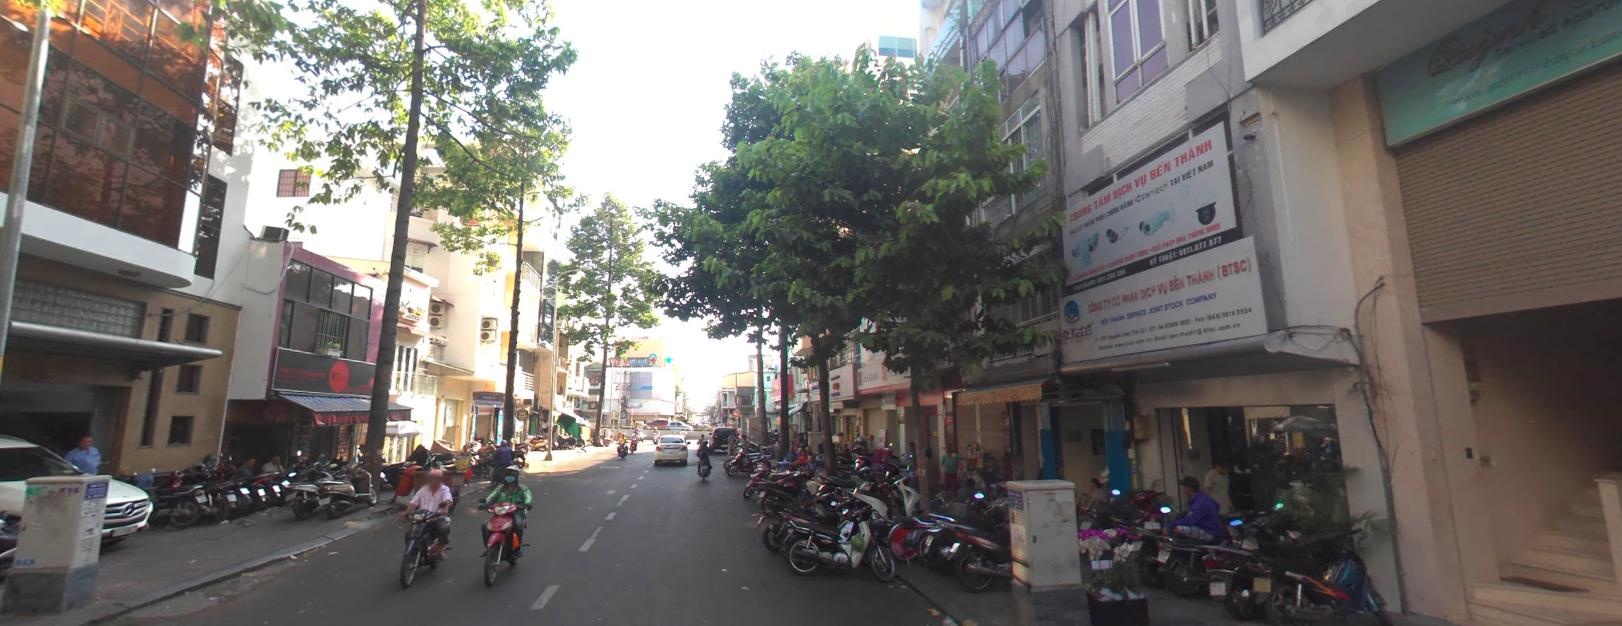Cam dung va do: (718, 411, 722, 416)
Cam re: (732, 406, 739, 415)
